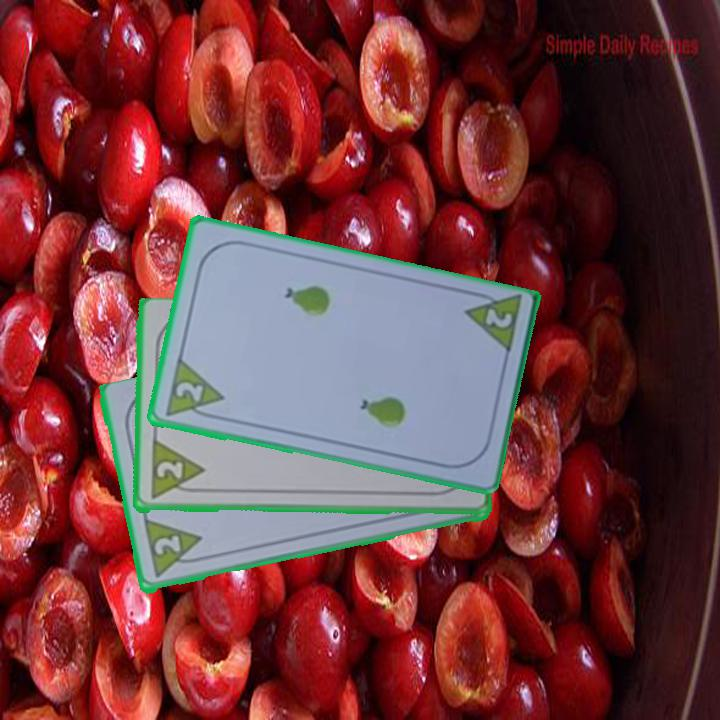2p: (161, 355, 226, 423), (147, 439, 206, 503), (481, 304, 516, 332), (150, 532, 183, 559)
